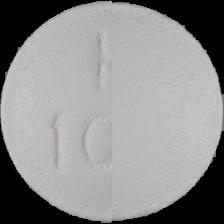51655-078: (0, 0, 224, 224)
